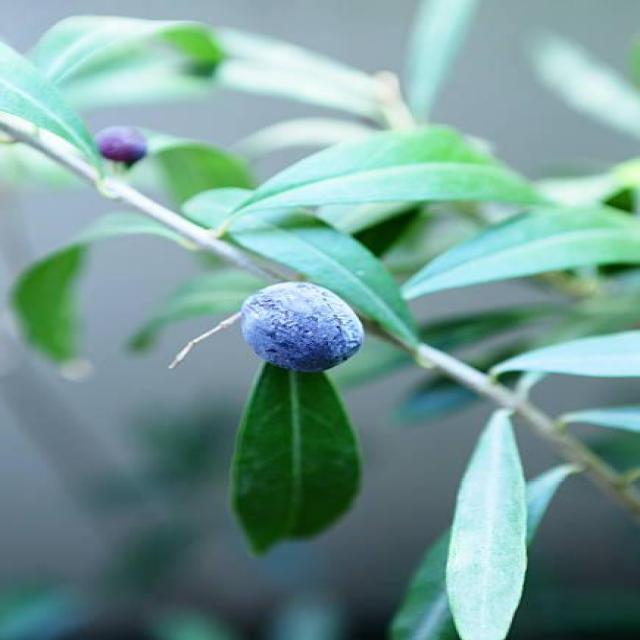Healthy: (232, 365, 360, 552), (241, 282, 363, 371)
